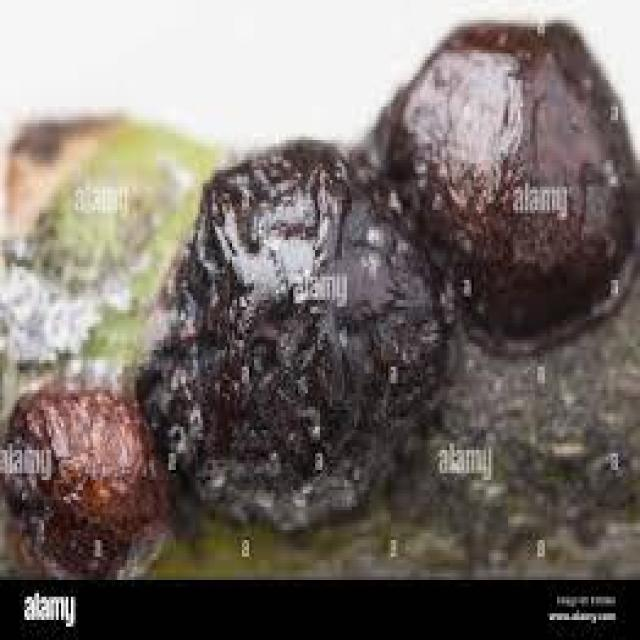Black Scale: (139, 140, 452, 530), (384, 23, 635, 350), (0, 383, 166, 573)
